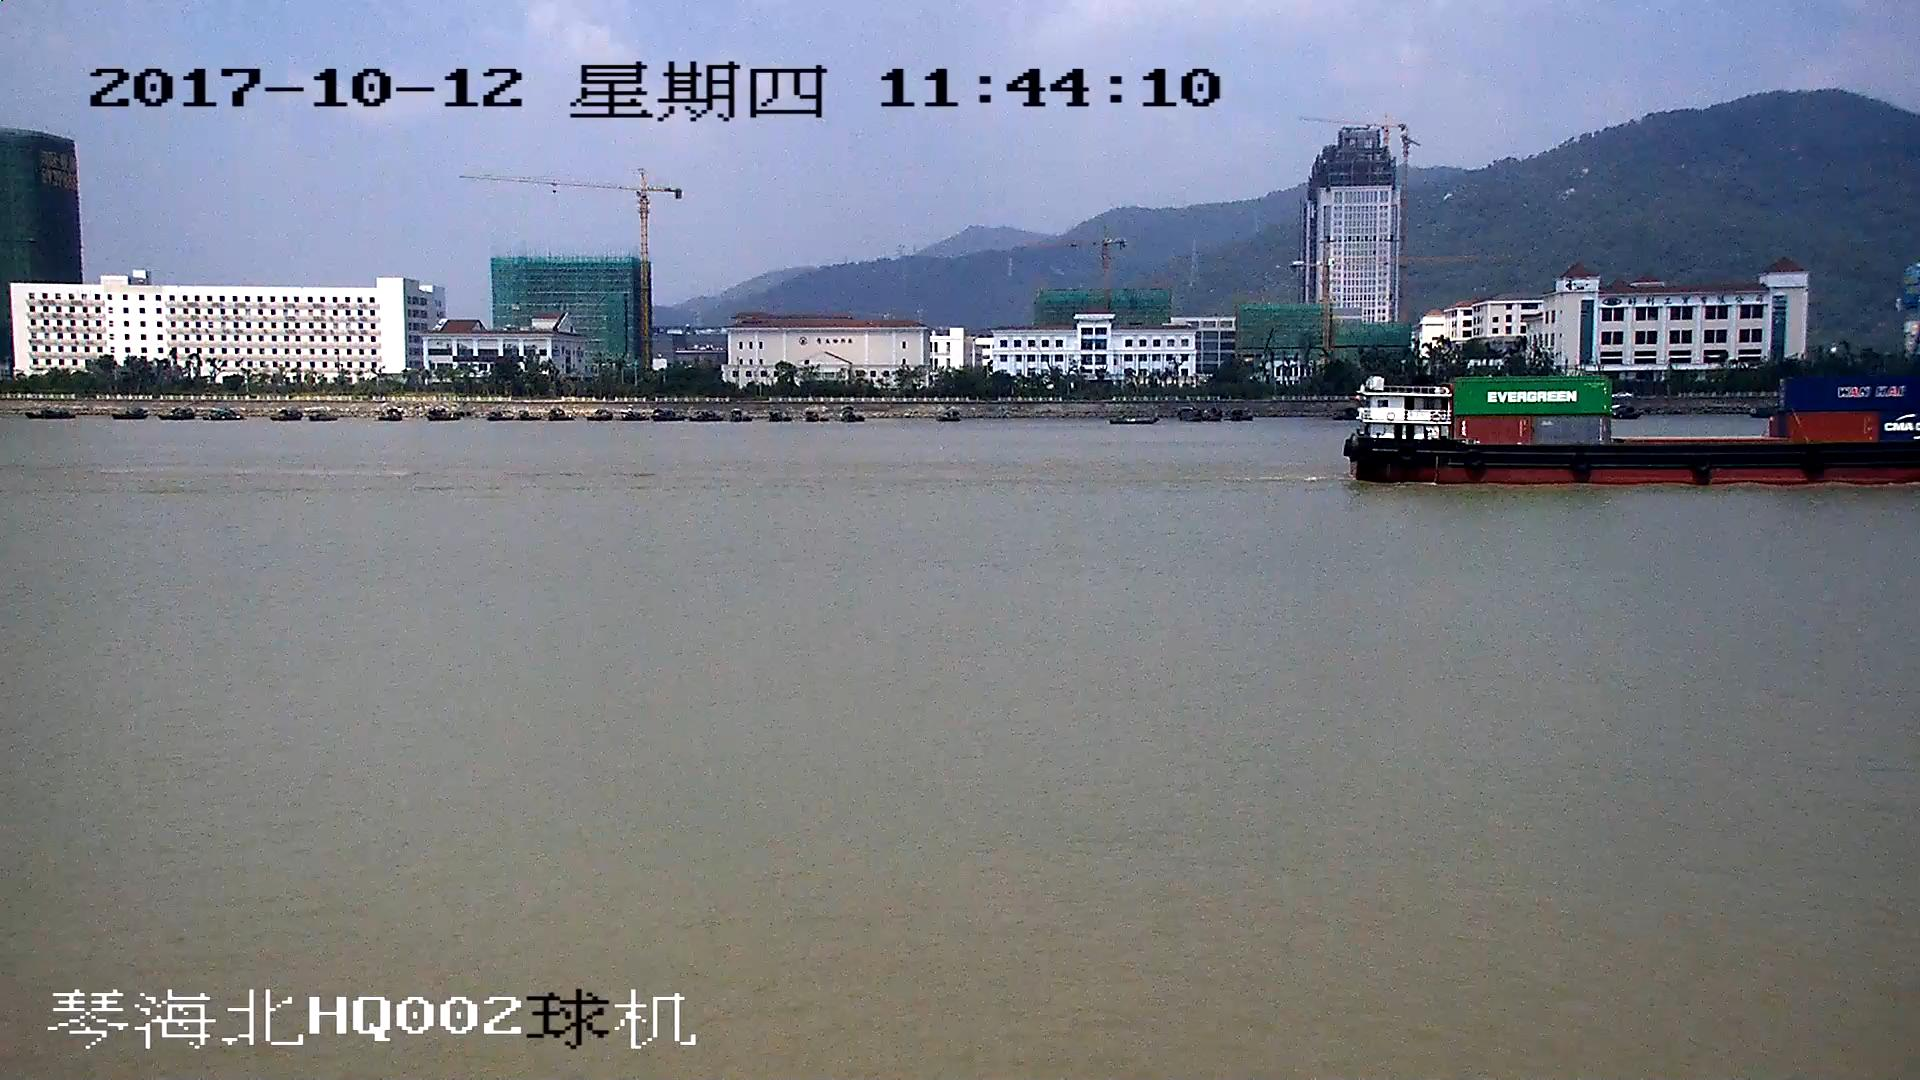container ship: (1352, 376, 1920, 485)
